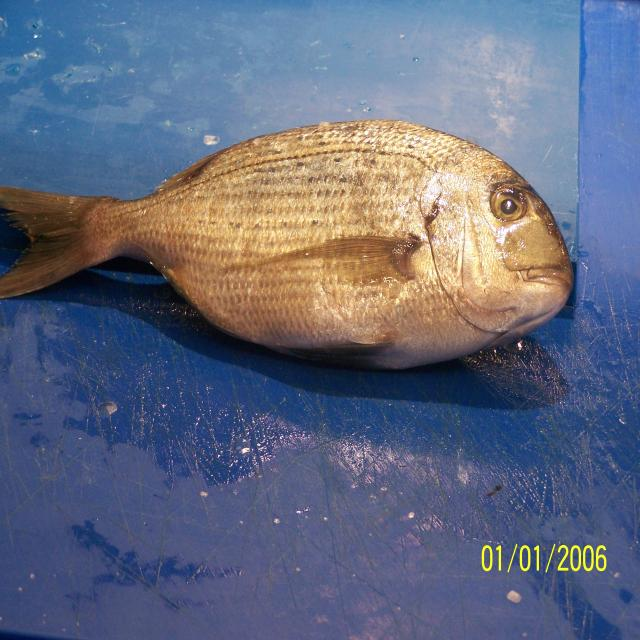Red-Sea-Bream-mercan-: (0, 118, 575, 374)
